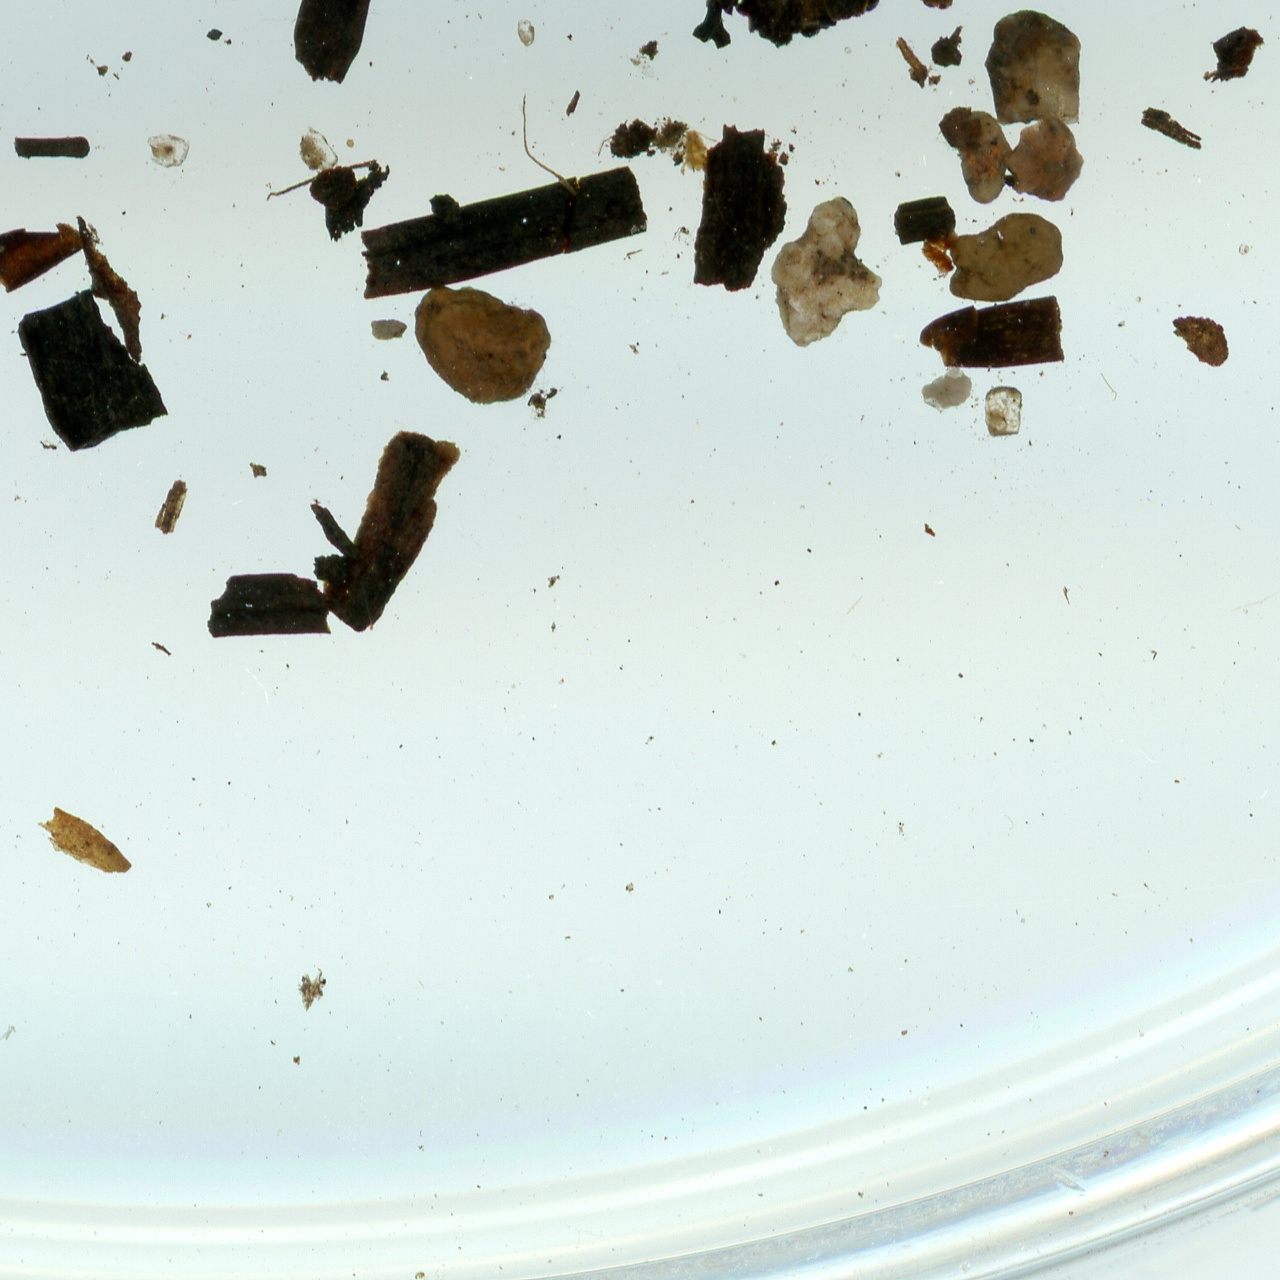arthropod: (680, 128, 726, 179)
